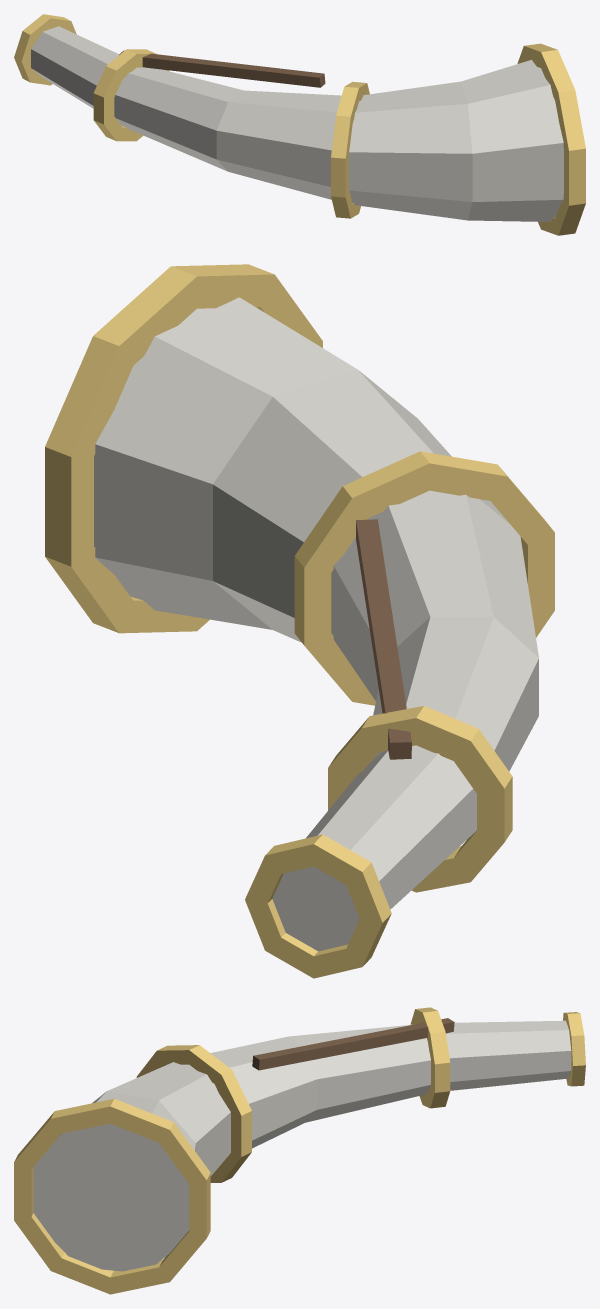
The model's file is warhorn.glb.
The picture shows the model from 3 angles, top to bottom: view 1: azimuth 30°, elevation 25°; view 2: azimuth 150°, elevation 25°; view 3: azimuth 270°, elevation 25°; orthographic projection. The views are drawn at different scales.
Visible parts, largest first — view 1: warhorn; view 2: warhorn; view 3: warhorn.
Part boxes in pixels (left/top/right/bottom): warhorn: left=14, top=14, right=585, bottom=235; warhorn: left=45, top=264, right=554, bottom=978; warhorn: left=14, top=1007, right=585, bottom=1294.
Bounding box in the file's own units: 0.4087 × 0.2024 × 0.5577.
